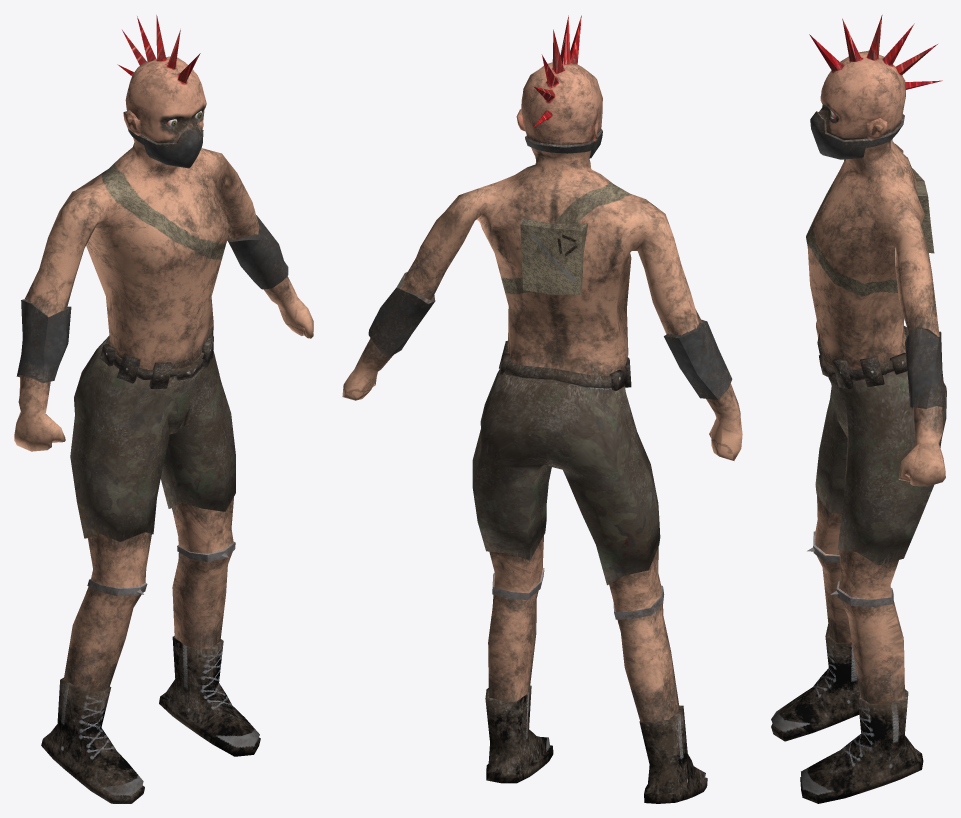
File: Anim_arma_c_npc2.0039.obj
3 renders of one model, left to right at view 1: azimuth 30°, elevation 25°; view 2: azimuth 150°, elevation 25°; view 3: azimuth 270°, elevation 25°, orthographic. The views are drawn at different scales.
Visible parts, largest first — view 1: polySurface1; view 2: polySurface1; view 3: polySurface1.
Part boxes in pixels (x1,y1,x2,y2): polySurface1: (14,15,313,803); polySurface1: (342,15,742,803); polySurface1: (771,15,946,803).
Size of the model in its own units: 4.95 by 10.35 by 2.17.
